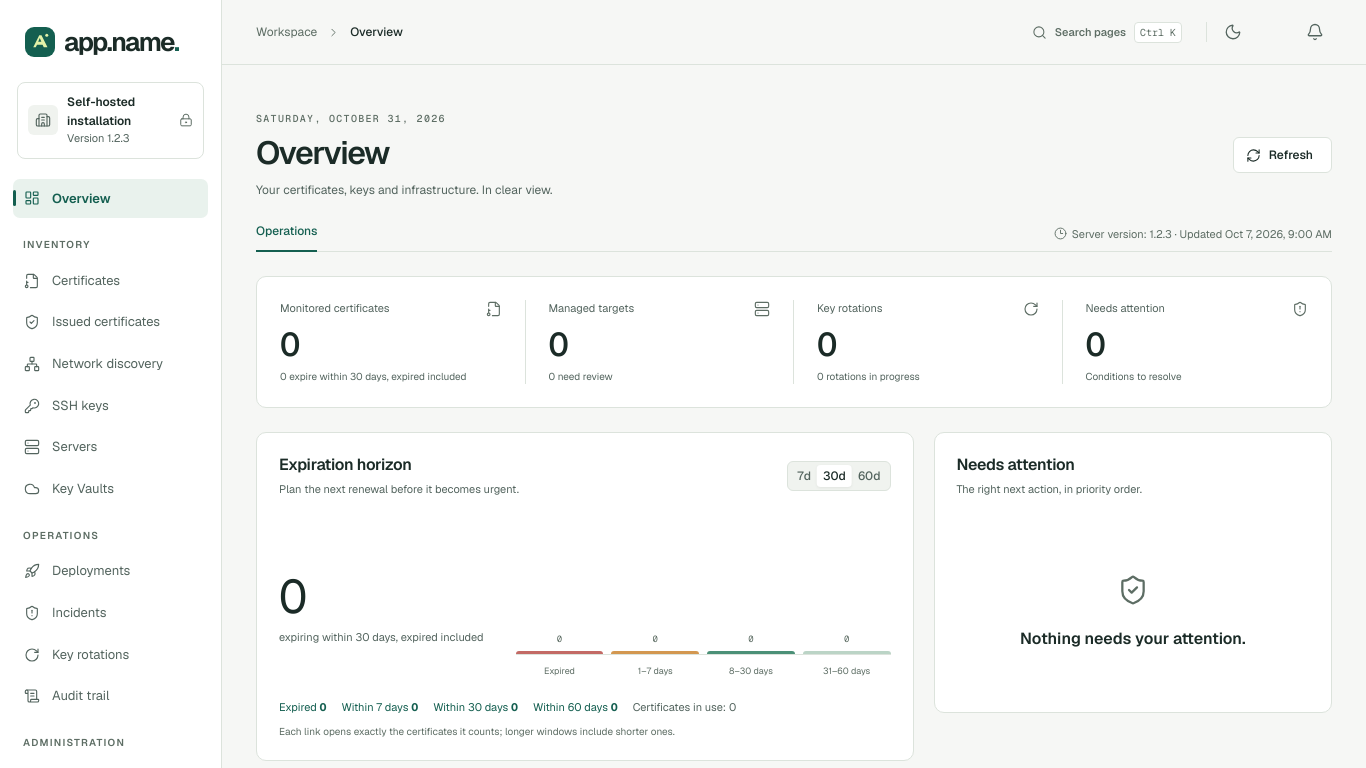
command palette › does nothing on Enter when no page matches
The width and height of the screenshot is (1366, 768).
Click the button "Search pages Ctrl K".
click(1109, 32)  # box [1021,17,1197,47]
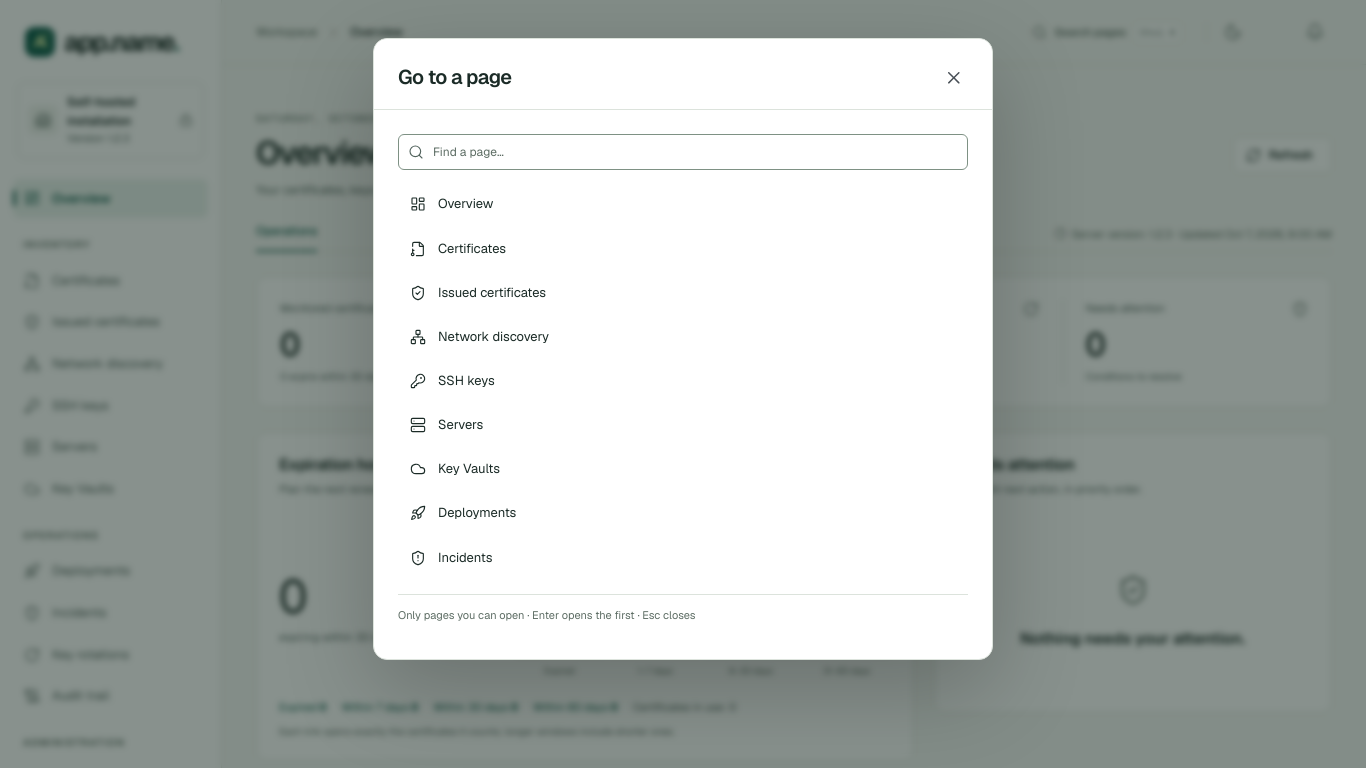
Type "zzz" into the field labelled "Find a page…".
click(683, 152); type("zzz")  # box [398,134,968,170]
Then press Enter
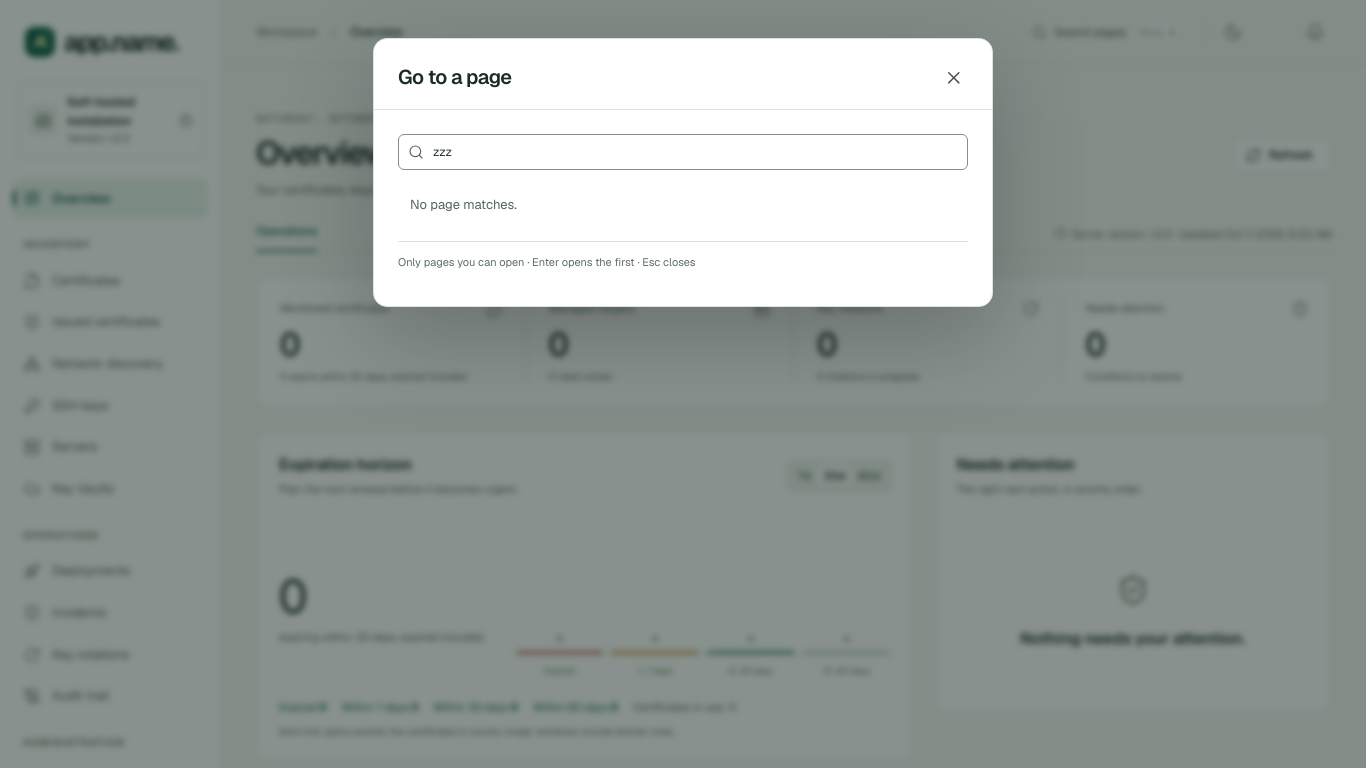
expect the dialog "Go to a page" shows "No page matches.": met, box [410,196,517,213]
